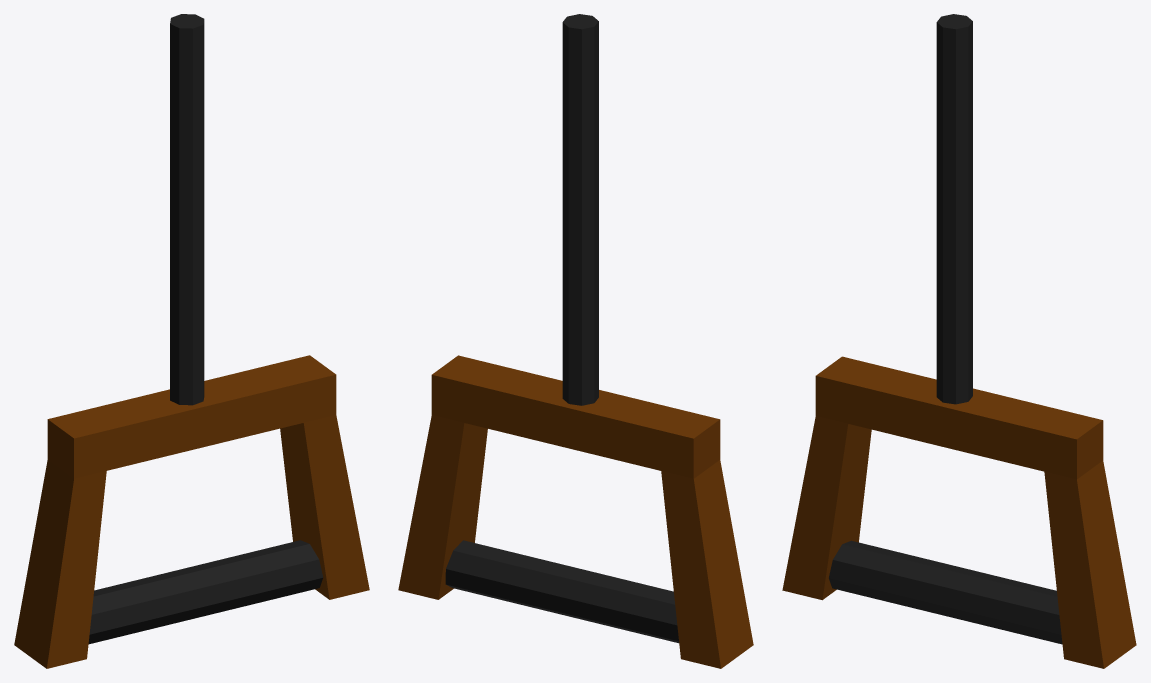
File: TuuutTuuut.fbx
The picture shows the model from 3 angles, left to right: view 1: azimuth 30°, elevation 25°; view 2: azimuth 150°, elevation 25°; view 3: azimuth 330°, elevation 25°; orthographic projection.
Parts seen in each view (by area): view 1: Cylinder.001; view 2: Cylinder.001; view 3: Cylinder.001.
Boxes of the visible parts, bbox=[...] form: Cylinder.001: bbox=[14, 14, 369, 668]; Cylinder.001: bbox=[398, 14, 753, 668]; Cylinder.001: bbox=[782, 14, 1136, 668].
Size of the model in its own units: 27.94 by 49.39 by 4.88.
